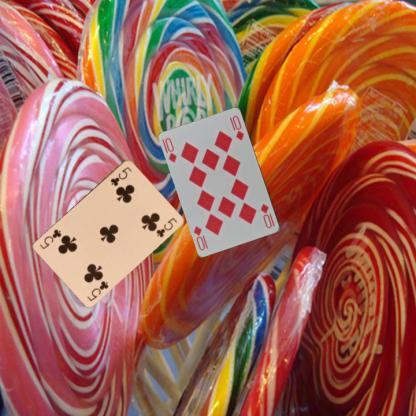10d: (162, 135, 178, 164), (258, 201, 274, 229)
5c: (84, 278, 110, 302), (108, 164, 133, 187)
